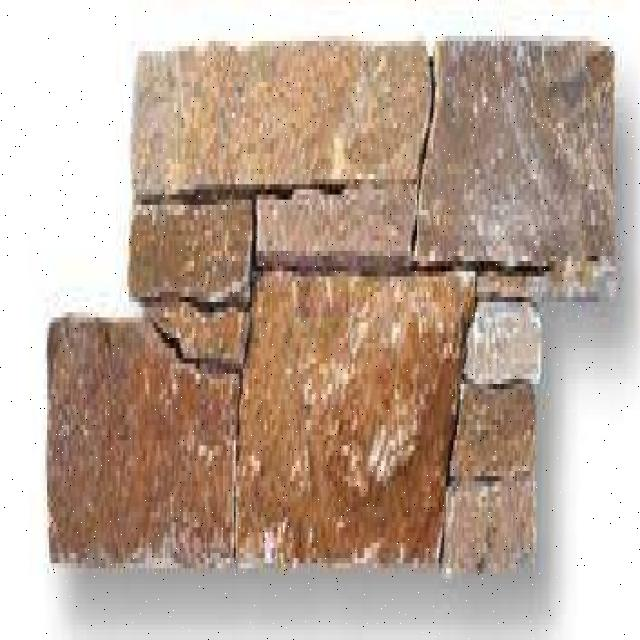Metamorphic: (38, 5, 635, 604)
